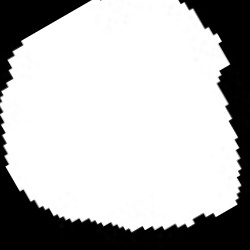spot: (1, 0, 239, 230)
